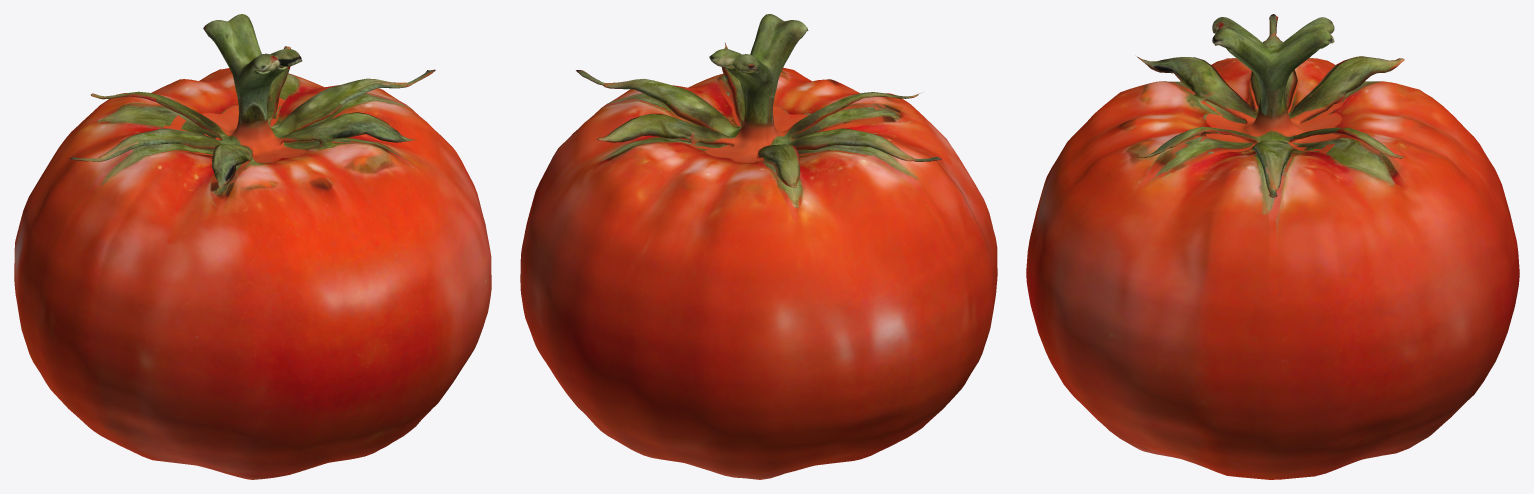
The model's file is tomato__1229195726_texture.fbx.
3 renders of one model, left to right at view 1: azimuth 30°, elevation 25°; view 2: azimuth 150°, elevation 25°; view 3: azimuth 270°, elevation 25°, orthographic. The views are drawn at different scales.
Parts seen in each view (by area): view 1: Mesh1_Mesh1.034; view 2: Mesh1_Mesh1.034; view 3: Mesh1_Mesh1.034.
Boxes of the visible parts, <box> form: Mesh1_Mesh1.034: <box>14,14,491,479</box>; Mesh1_Mesh1.034: <box>520,14,997,479</box>; Mesh1_Mesh1.034: <box>1026,14,1519,479</box>.
Bounding box in the file's own units: 200 × 186 × 198.
Materials: 1 (1 with a texture image).
